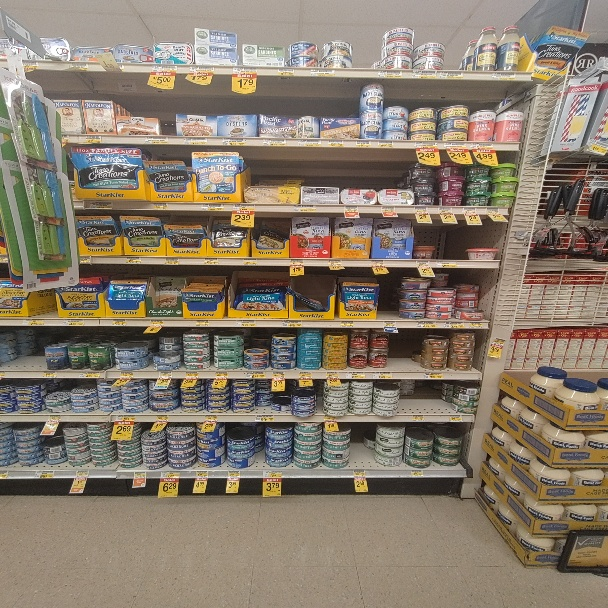All PRICE TAGS: (589, 139, 606, 155), (89, 201, 114, 209), (67, 62, 88, 71), (79, 371, 100, 379), (22, 318, 43, 326), (153, 65, 177, 72), (492, 72, 515, 79), (62, 319, 84, 326), (235, 68, 257, 75), (416, 71, 438, 78), (34, 470, 53, 478), (300, 139, 321, 146), (295, 205, 316, 212), (22, 61, 40, 69), (85, 135, 101, 144), (190, 66, 214, 72), (310, 69, 334, 75), (233, 204, 253, 211), (184, 137, 207, 143), (442, 71, 461, 78), (378, 71, 400, 77), (472, 143, 494, 149), (264, 470, 282, 477), (284, 320, 302, 327), (225, 138, 246, 144), (265, 139, 285, 145), (446, 142, 466, 148), (162, 470, 179, 477), (437, 260, 454, 267), (125, 256, 142, 263), (328, 140, 345, 147), (152, 202, 169, 209), (203, 203, 220, 210), (147, 137, 170, 142), (236, 320, 255, 326), (418, 142, 437, 148), (408, 469, 424, 476), (164, 257, 180, 264), (117, 414, 135, 420), (196, 470, 211, 477), (486, 207, 501, 214), (344, 206, 359, 213), (374, 372, 391, 378), (348, 372, 365, 378), (247, 371, 264, 377), (111, 319, 128, 325), (277, 69, 294, 75), (227, 470, 241, 477), (447, 414, 461, 421), (328, 260, 342, 267), (463, 207, 477, 214), (381, 206, 395, 213), (42, 371, 56, 378), (256, 414, 272, 420), (420, 321, 436, 327), (243, 259, 259, 265), (330, 140, 342, 148), (411, 414, 424, 421), (470, 322, 483, 329), (424, 373, 442, 378), (158, 371, 173, 377), (447, 322, 465, 327), (149, 320, 164, 326), (416, 260, 431, 266), (203, 258, 218, 264), (133, 471, 147, 477), (155, 414, 169, 420), (326, 371, 340, 377), (299, 371, 313, 377), (272, 371, 286, 377), (215, 370, 229, 376), (184, 370, 198, 376), (120, 371, 134, 377), (339, 321, 353, 327), (370, 260, 384, 266), (290, 260, 304, 266), (439, 207, 453, 213), (76, 470, 88, 477), (48, 415, 60, 422), (380, 141, 394, 147), (353, 470, 366, 476), (204, 414, 217, 420), (383, 321, 396, 327), (415, 207, 428, 213), (194, 320, 209, 325), (356, 141, 371, 146), (78, 257, 90, 263), (326, 416, 339, 421)
